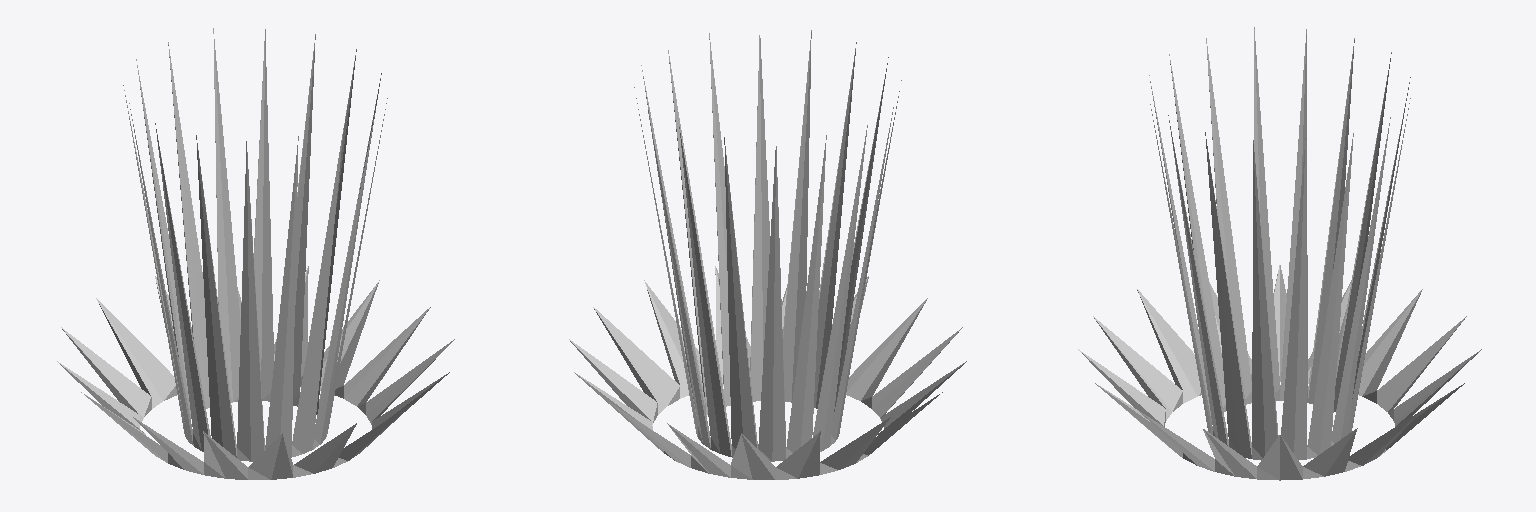
Rendered from BombShockwave.obj.
The picture shows the model from 3 angles: view 1: azimuth 30°, elevation 25°; view 2: azimuth 150°, elevation 25°; view 3: azimuth 270°, elevation 25°; orthographic projection.
Visible parts, largest first — view 1: Circle.002, Circle.001; view 2: Circle.002, Circle.001; view 3: Circle.002, Circle.001.
Part boxes in pixels (bbox=[...]): Circle.002: bbox=[123, 28, 387, 461]; Circle.001: bbox=[57, 266, 454, 479]; Circle.002: bbox=[634, 30, 901, 461]; Circle.001: bbox=[569, 266, 966, 479]; Circle.002: bbox=[1149, 27, 1410, 460]; Circle.001: bbox=[1078, 265, 1481, 480].
Size of the model in its own units: 3.15 by 3 by 3.15.